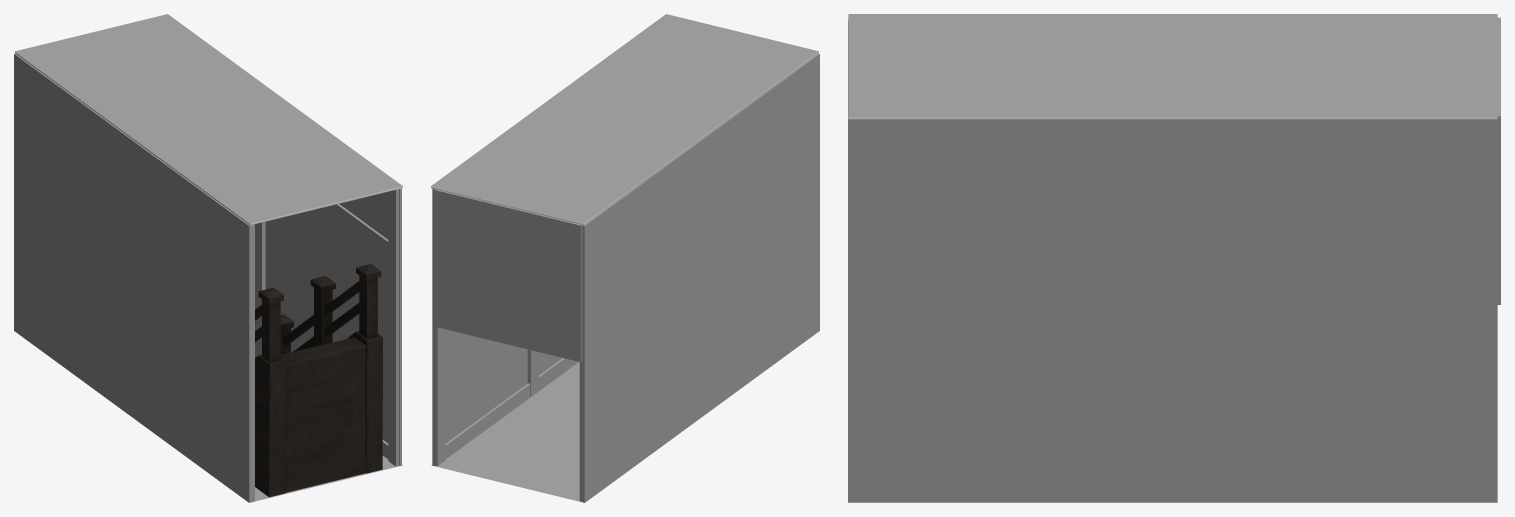
Rendered from StairsUp.fbx.
3 views of the same model, side by side, from view 1: azimuth 30°, elevation 25°; view 2: azimuth 150°, elevation 25°; view 3: azimuth 270°, elevation 25° (orthographic). The views are drawn at different scales.
Parts seen in each view (by area): view 1: pCube28 (×2), ceiling, Stairs_low, pCube61, pCube55, pCube60, pCube58, floor; view 2: pCube28 (×2), ceiling, pCube89, floor, pCube59, pCube55, pCube61, pCube60; view 3: pCube28, ceiling, pCube89.
Part boxes in pixels (box(x1,y1,x2,y2)): pCube28 (×2): box(14, 53, 401, 502); ceiling: box(15, 14, 402, 225); Stairs_low: box(255, 264, 382, 497); pCube61: box(388, 189, 399, 466); pCube55: box(251, 224, 254, 502); pCube60: box(254, 221, 265, 357); pCube58: box(323, 204, 388, 255); floor: box(255, 456, 402, 501); pCube28 (×2): box(432, 53, 819, 502); ceiling: box(431, 14, 818, 225); pCube89: box(435, 189, 582, 362); floor: box(431, 362, 582, 502); pCube59: box(445, 358, 578, 459); pCube55: box(434, 189, 445, 466); pCube61: box(579, 225, 582, 501); pCube60: box(527, 349, 538, 396); pCube28: box(848, 118, 1497, 502); ceiling: box(848, 14, 1497, 119); pCube89: box(1497, 17, 1500, 304).
Size of the model in its own units: 755 by 1314 by 2010.
